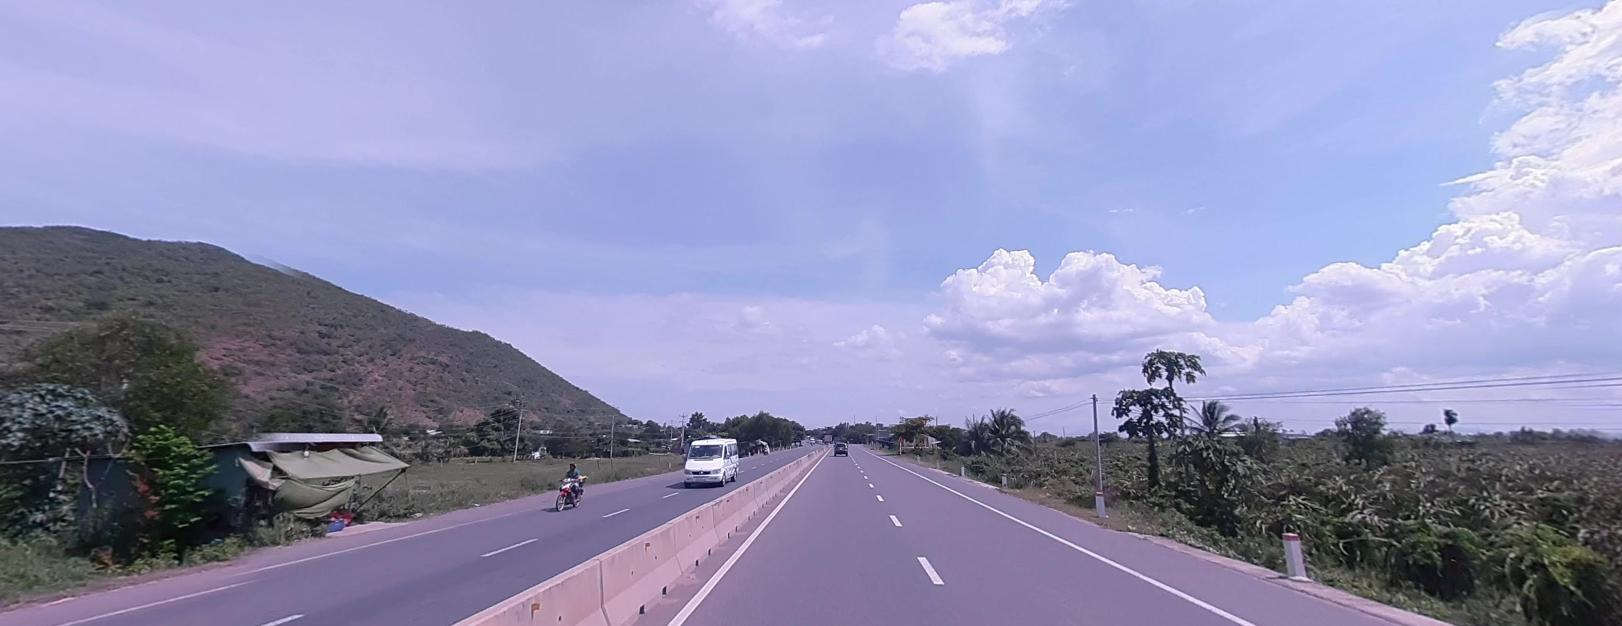Nguy hiem: (897, 434, 903, 440)
